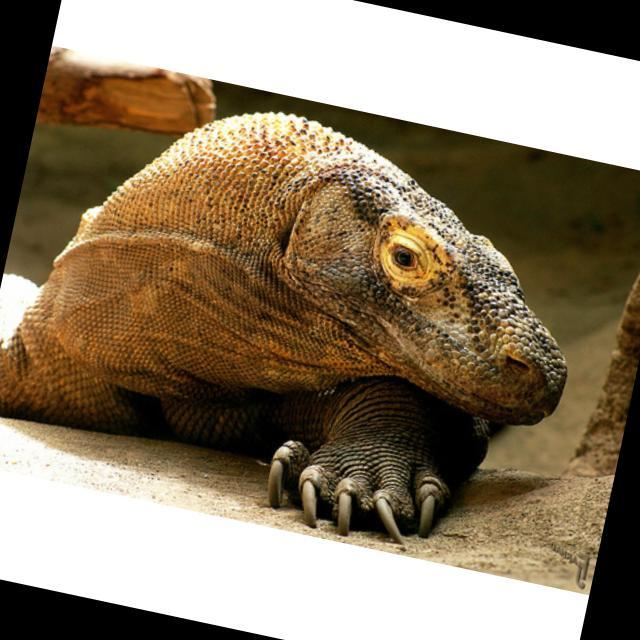KomodoDragon: (0, 62, 610, 575)
